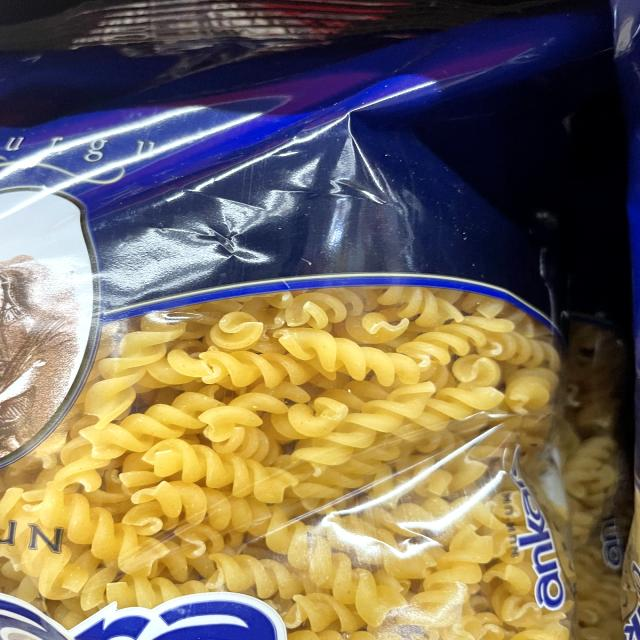fusilli pasta: (0, 280, 533, 640)
